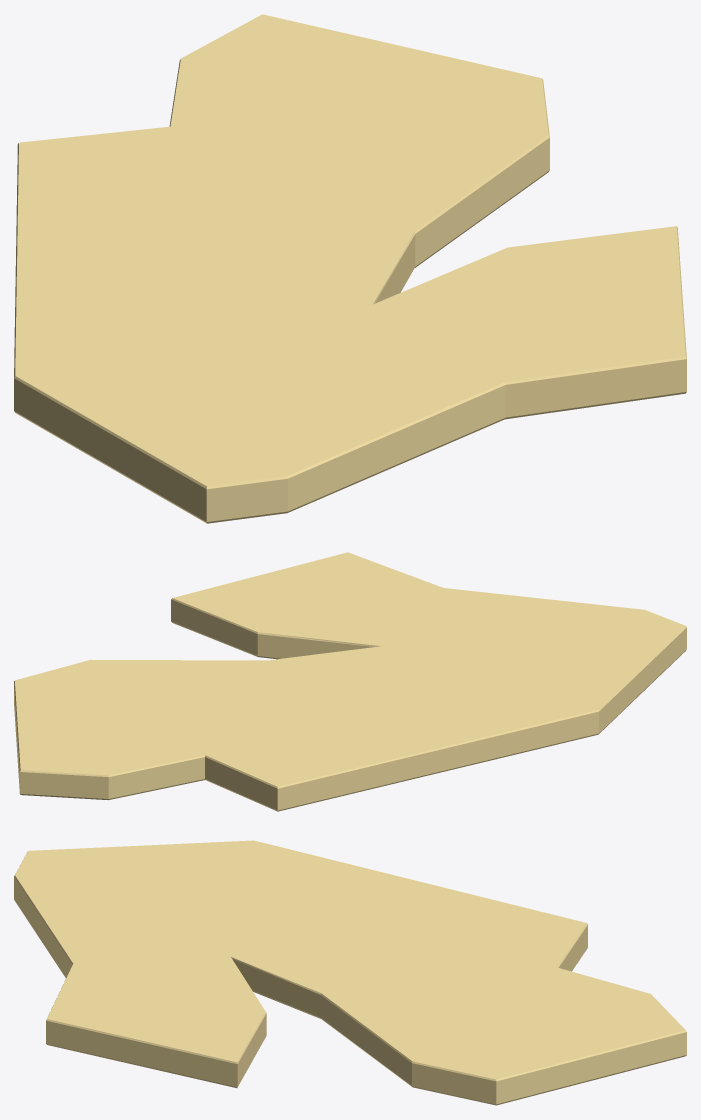
Rendered from DJI.glb.
3 views of the same model, one above another, from view 1: azimuth 30°, elevation 25°; view 2: azimuth 150°, elevation 25°; view 3: azimuth 270°, elevation 25° (orthographic). The views are drawn at different scales.
Bounding box in the file's own units: 1.35 × 0.068 × 1.6.
